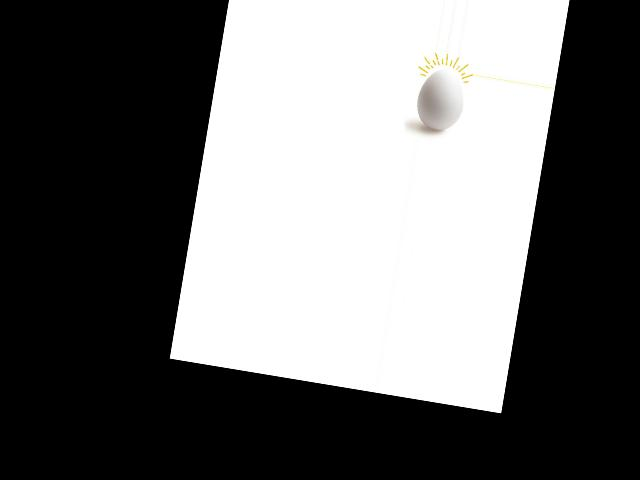egg: (413, 66, 469, 133)
